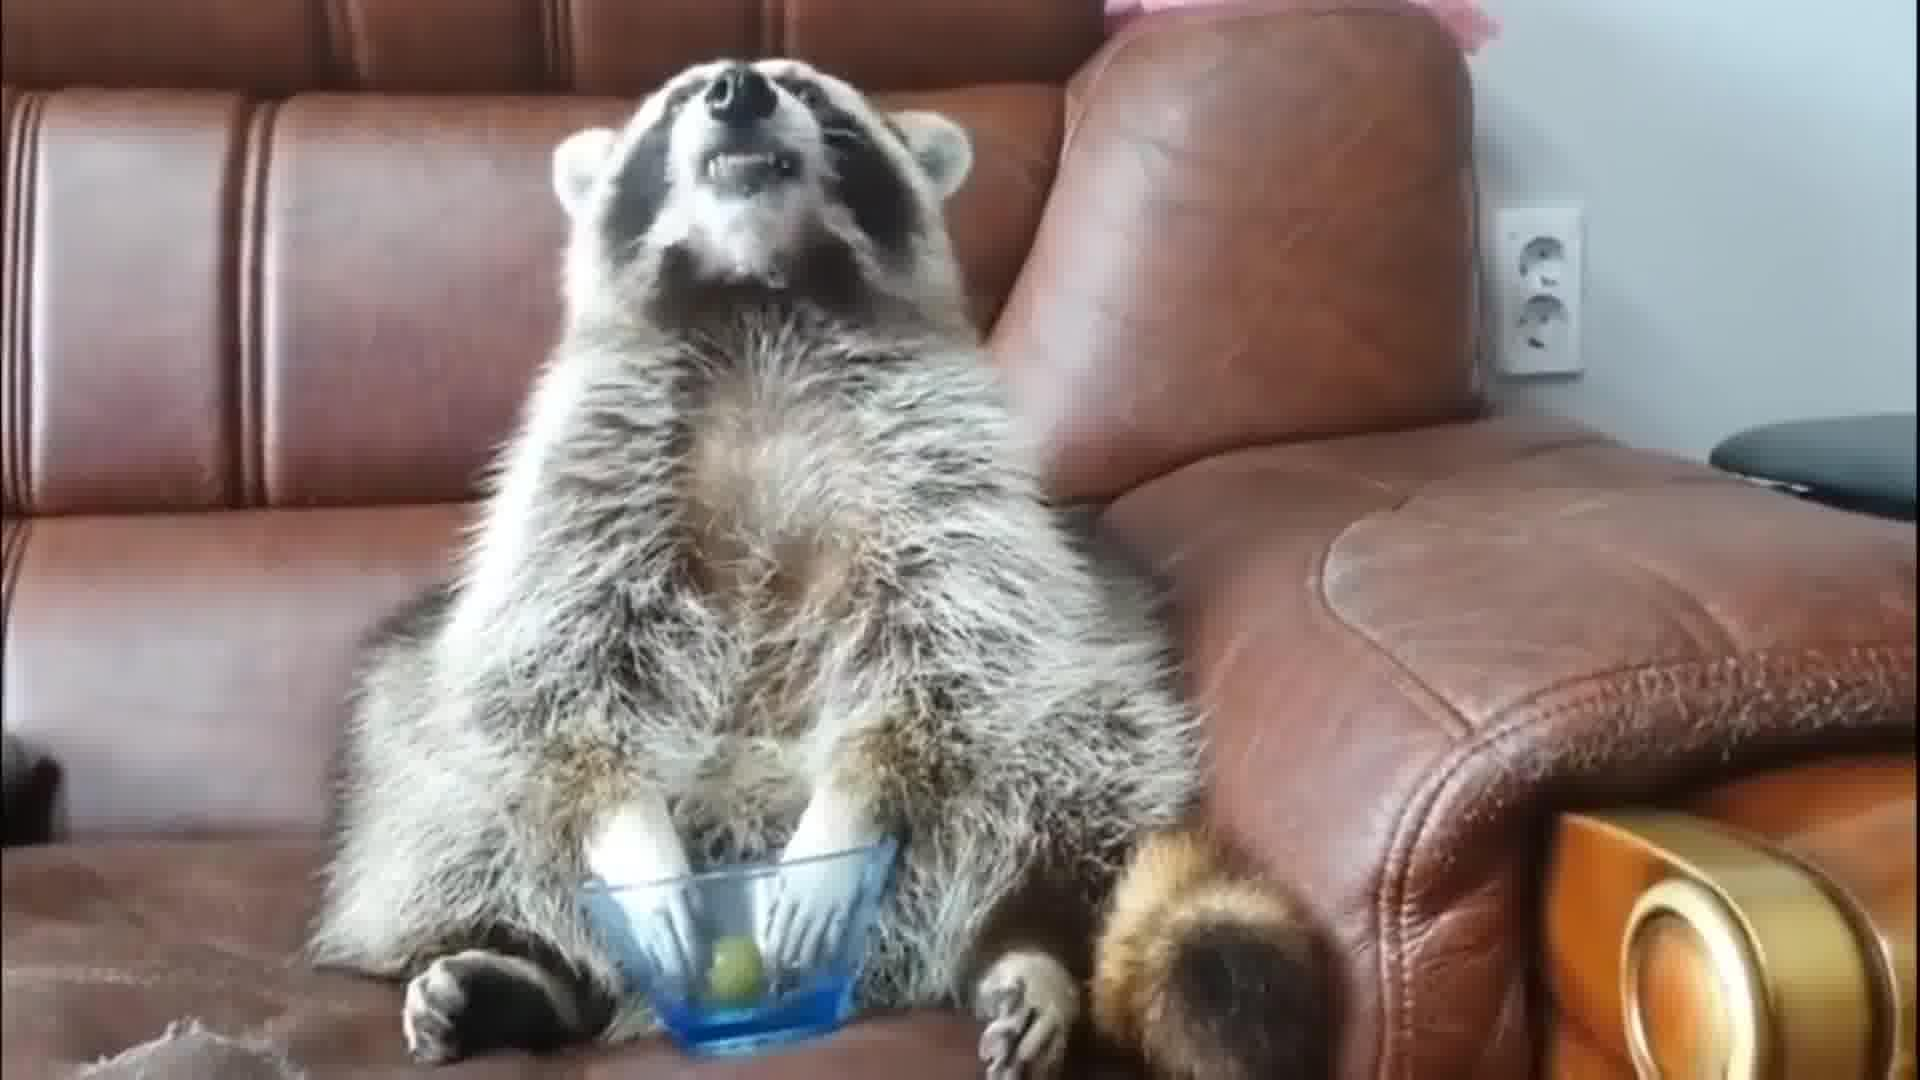raccoon: (305, 59, 1332, 1080)
